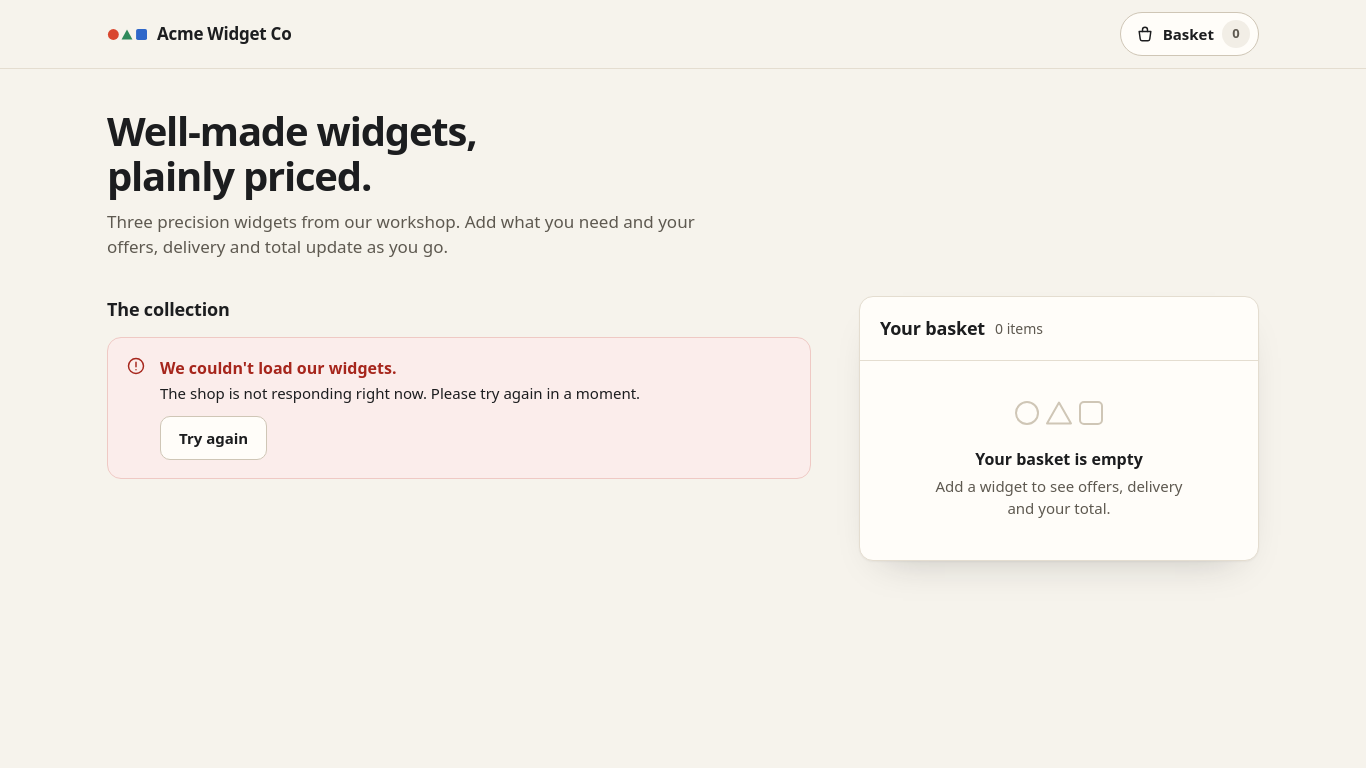
Scenario: Acme Widget Co storefront › lets the shopper retry when the catalogue cannot be loaded
The width and height of the screenshot is (1366, 768).
Check: the text "We couldn't load our widgets." is shown, box [160, 357, 396, 379]
Click the button "Try again" at (214, 438), box [160, 416, 267, 460]
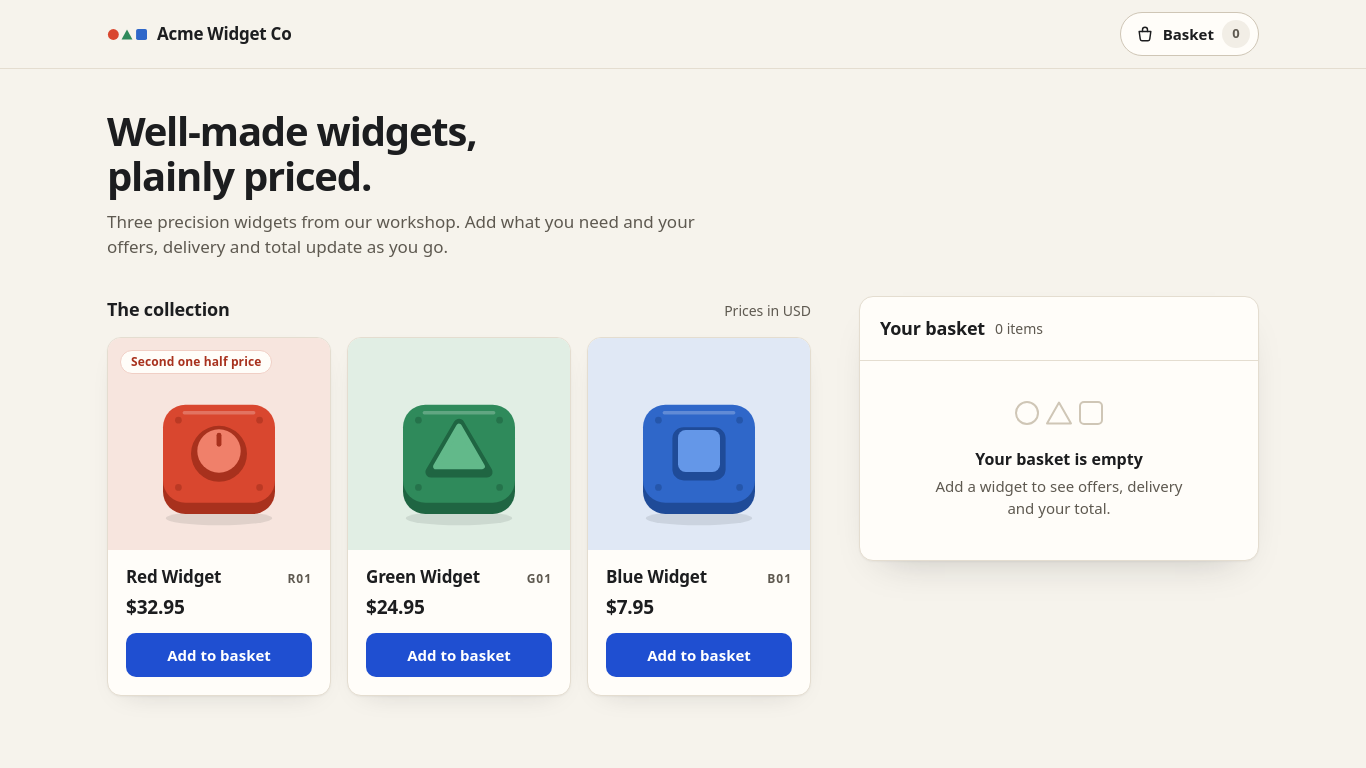
Check: the button with aria-label "Add to basket: Red Widget" is shown, box [126, 633, 312, 677]
Check: the text "Second one half price" is shown, box [120, 350, 272, 374]
